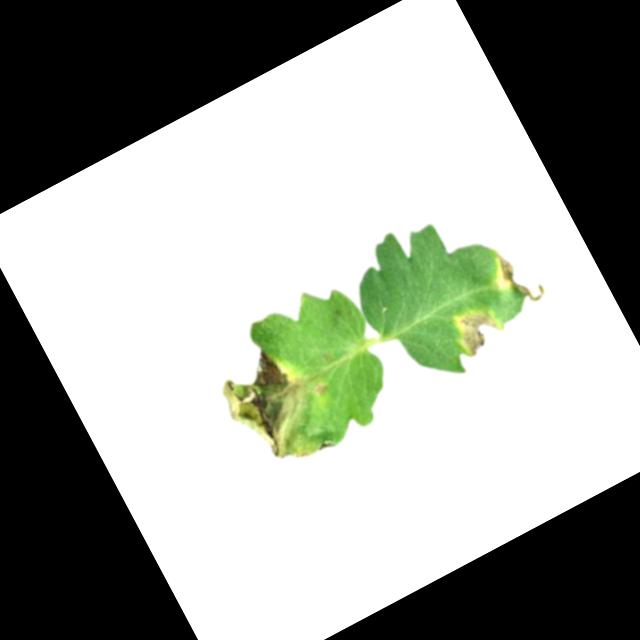Late_blight: (208, 331, 351, 482), (481, 238, 549, 316), (450, 298, 512, 359)
